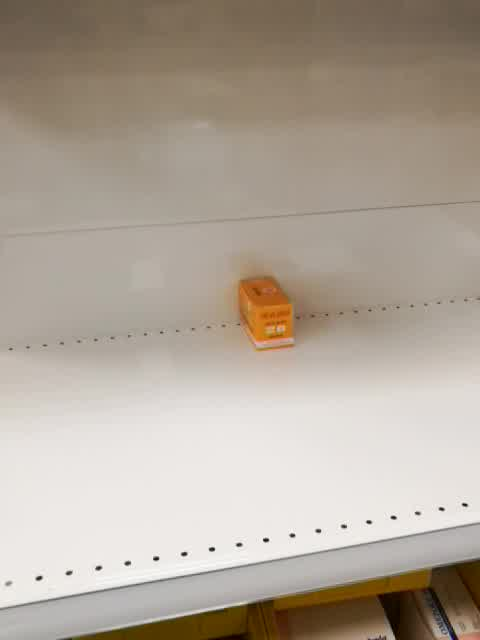jasminetea: (237, 275, 295, 352)
